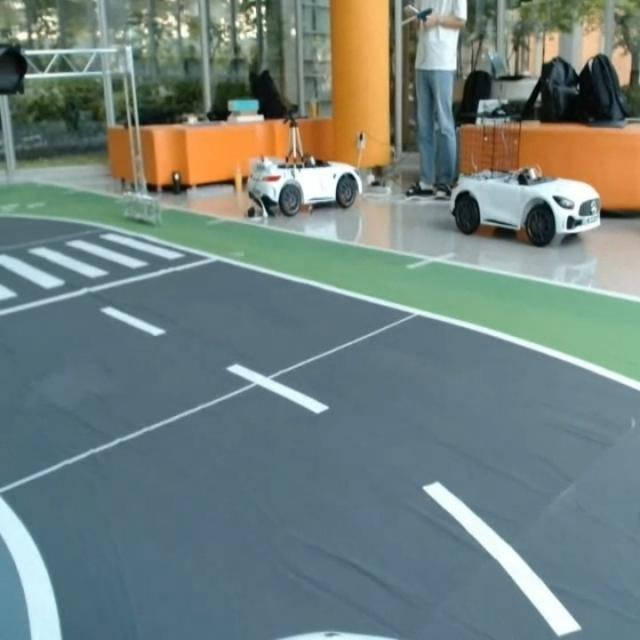traffic-light: (0, 48, 32, 94)
